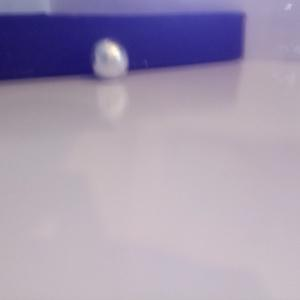zone: (1, 14, 244, 81)
